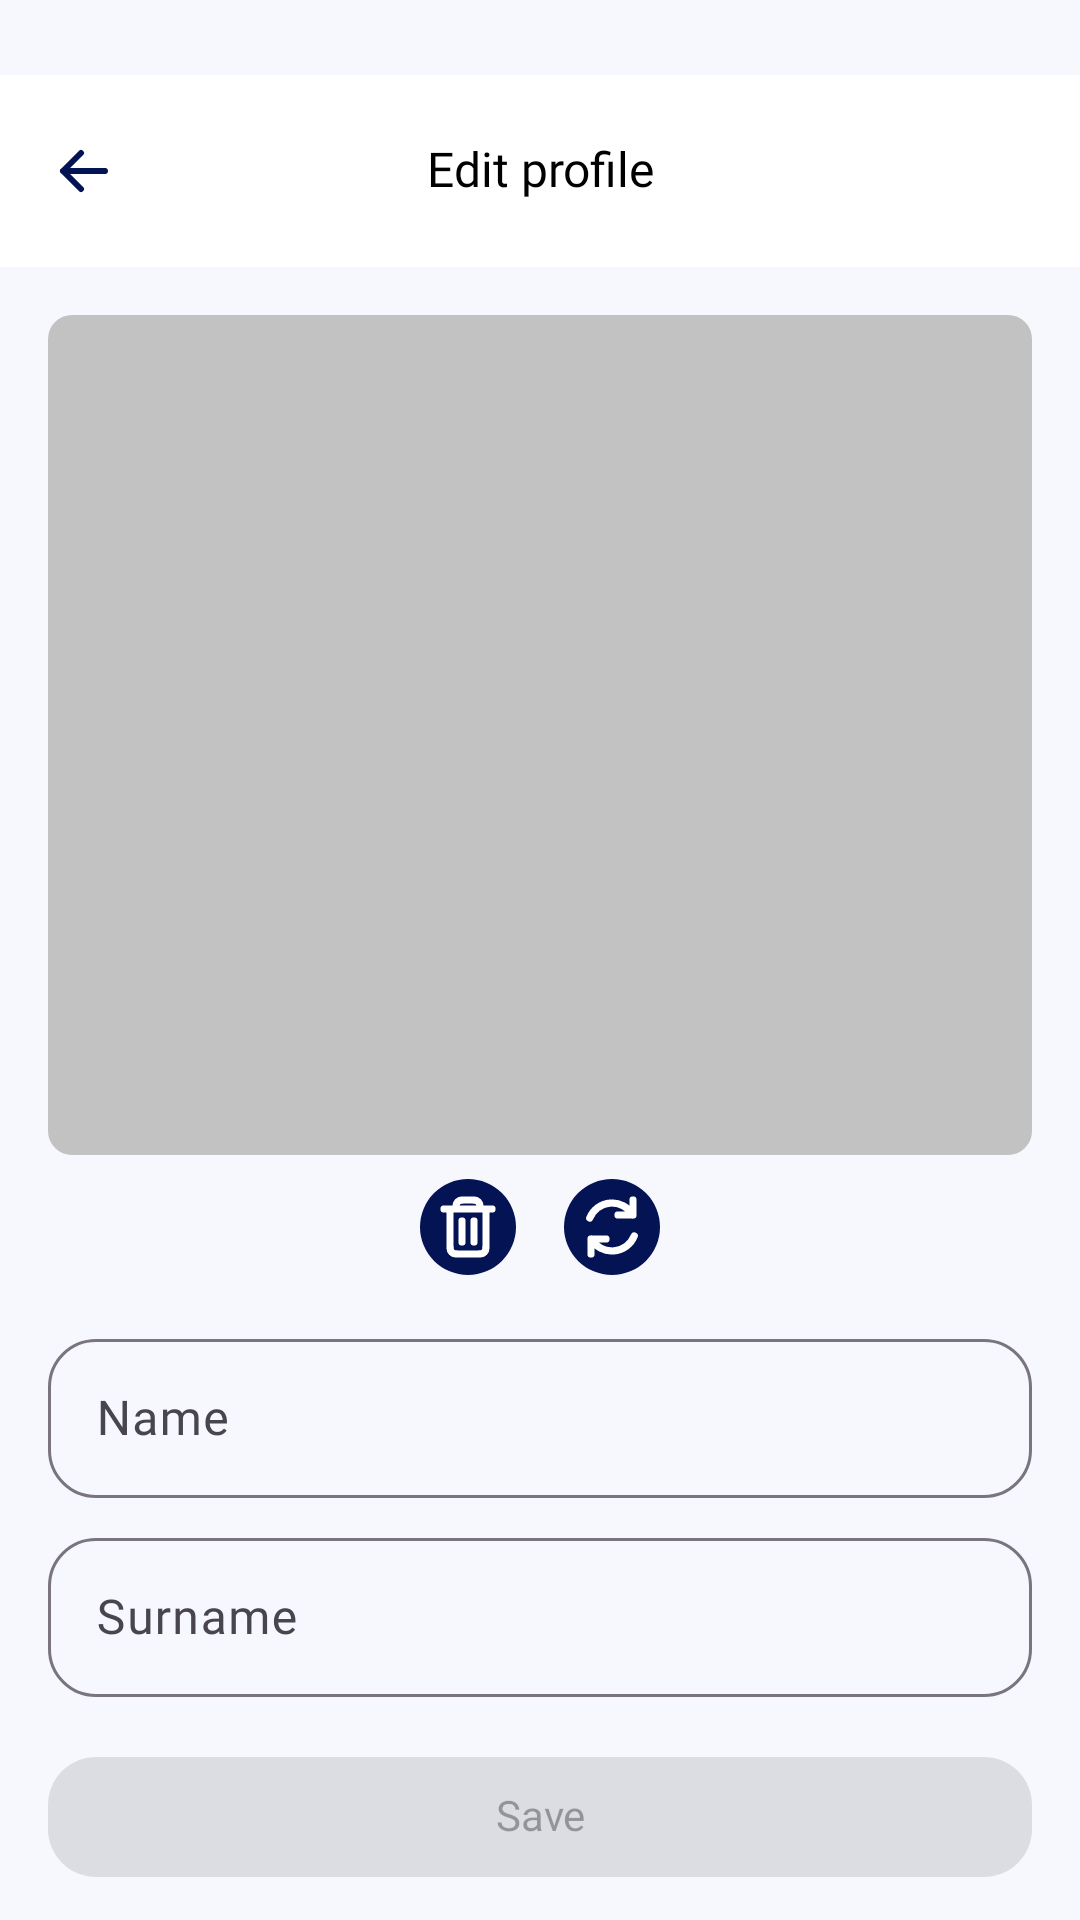

Where to tap for icons on this 1080 x 1920 app screen, as (x=x, y=y):
arrow left: (x=84, y=171)
reload: (x=612, y=1227)
trash: (x=468, y=1227)
